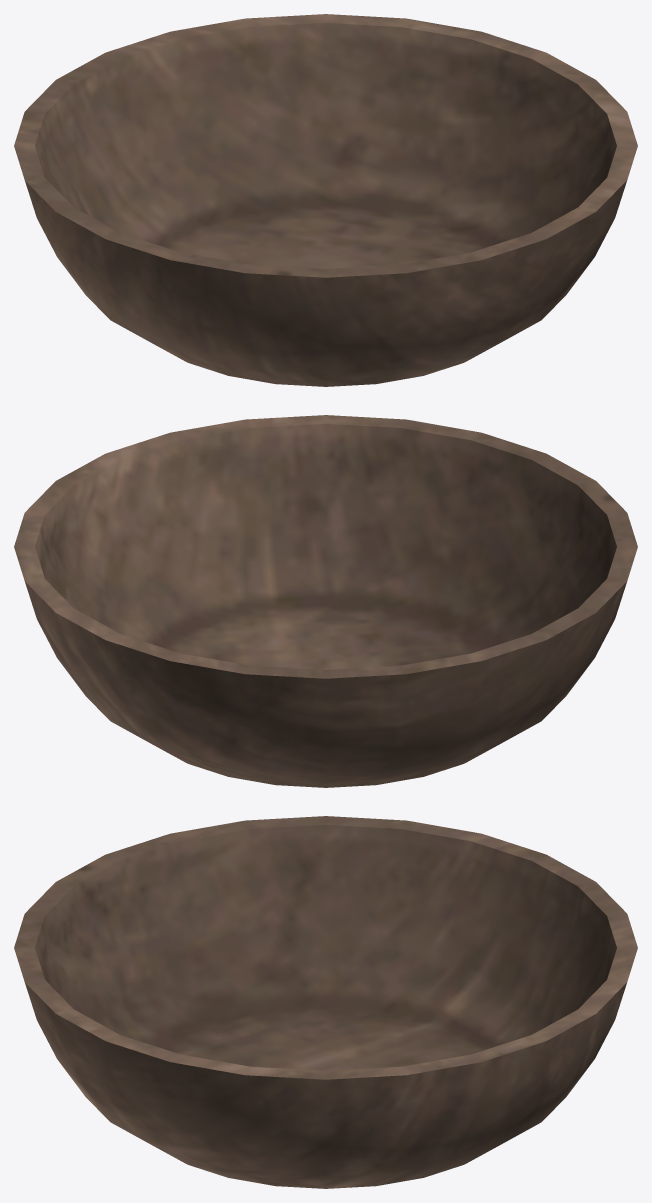
Rendered from SM_Wooden_Plate.FBX.
The picture shows the model from 3 angles, top to bottom: view 1: azimuth 30°, elevation 25°; view 2: azimuth 150°, elevation 25°; view 3: azimuth 270°, elevation 25°; orthographic projection.
Visible parts, largest first — view 1: SM_Wooden_Plate; view 2: SM_Wooden_Plate; view 3: SM_Wooden_Plate.
Boxes of the visible parts, left/top/right/bottom form: SM_Wooden_Plate: left=14, top=14, right=637, bottom=386; SM_Wooden_Plate: left=14, top=415, right=637, bottom=787; SM_Wooden_Plate: left=14, top=816, right=637, bottom=1188.
Bounding box in the file's own units: 25 × 7 × 25.
